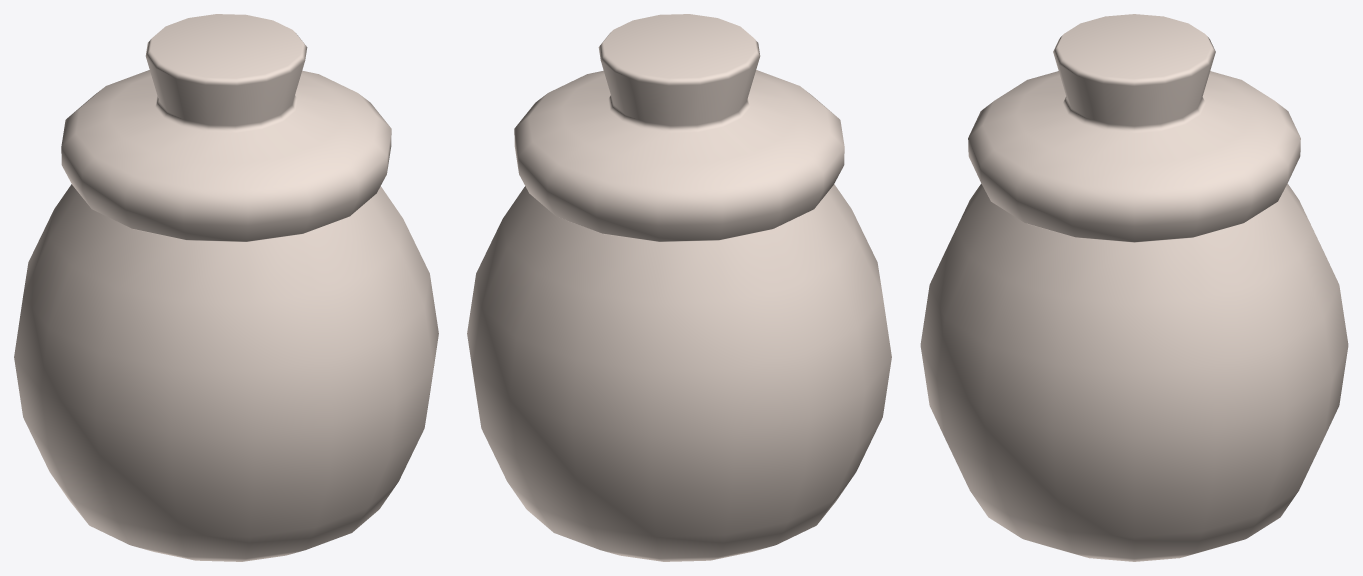
The model's file is Pot_1.glb.
3 views of the same model, side by side, from view 1: azimuth 30°, elevation 25°; view 2: azimuth 150°, elevation 25°; view 3: azimuth 270°, elevation 25° (orthographic).
Parts seen in each view (by area): view 1: Pot_1; view 2: Pot_1; view 3: Pot_1.
Part boxes in pixels (left/top/right/bottom): Pot_1: left=14, top=14, right=438, bottom=561; Pot_1: left=467, top=14, right=891, bottom=561; Pot_1: left=920, top=14, right=1348, bottom=561.
Size of the model in its own units: 0.2503 by 0.3004 by 0.2503.
1 material, 1 textured.
